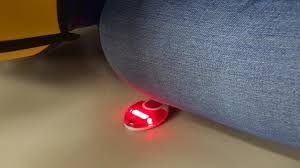bell: (121, 98, 174, 132)
